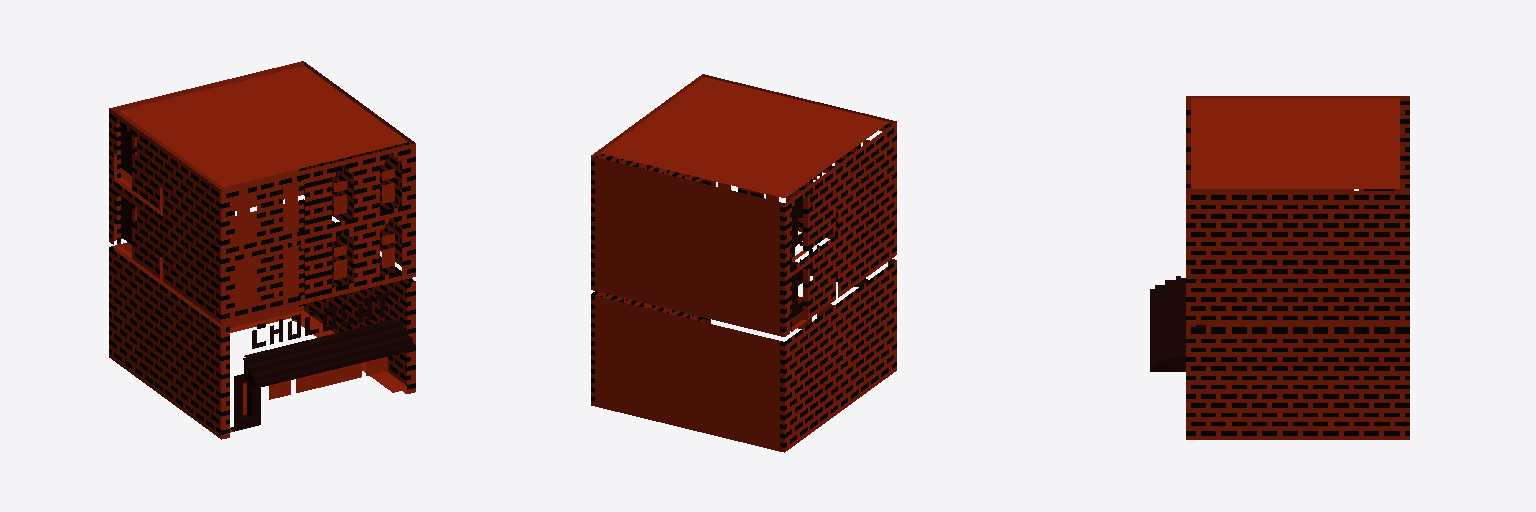
The picture shows the model from 3 angles: view 1: azimuth 30°, elevation 25°; view 2: azimuth 150°, elevation 25°; view 3: azimuth 270°, elevation 25°; orthographic projection.
Visible parts, largest first — view 1: hot_cocoa2; view 2: hot_cocoa2; view 3: hot_cocoa2.
Part boxes in pixels (bbox=[...]): hot_cocoa2: bbox=[109, 61, 415, 439]; hot_cocoa2: bbox=[591, 74, 896, 452]; hot_cocoa2: bbox=[1150, 96, 1409, 439].
Size of the model in its own units: 53 by 56 by 51.
1 materials, 1 textured.